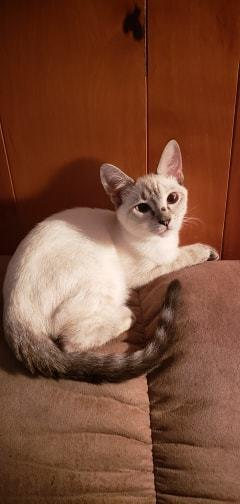siamese: (98, 136, 196, 253)
